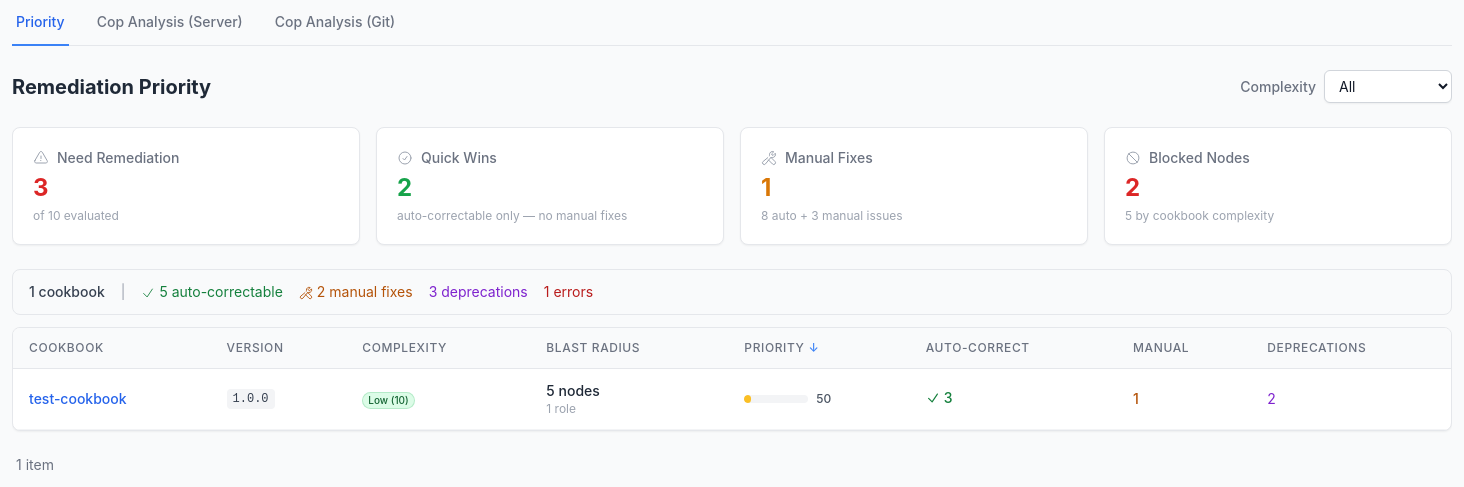
Test case: RemediationPage tabs › switches to the Server Cop Analysis tab on click
This screenshot has width=1464, height=487.
expect the heading "Remediation Priority" is shown: met, box [12, 72, 211, 100]
Step 1. Click the button "Cop Analysis (Server)" → click(170, 29), box [93, 12, 247, 46]
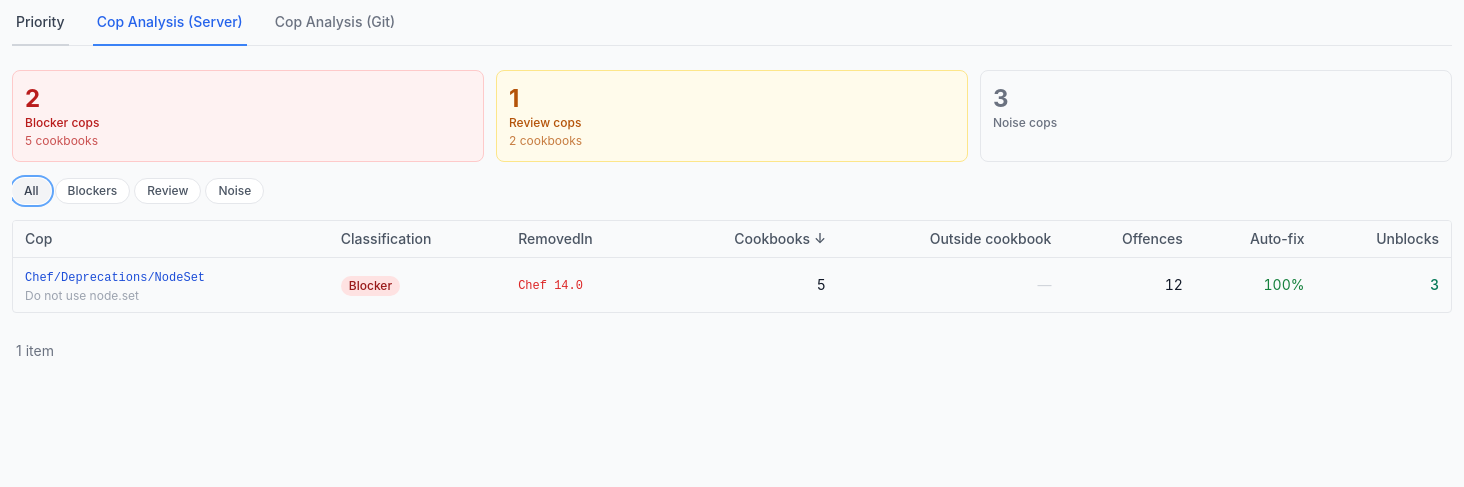
expect the button "Chef/Deprecations/NodeSet" is shown: met, box [25, 270, 205, 286]
